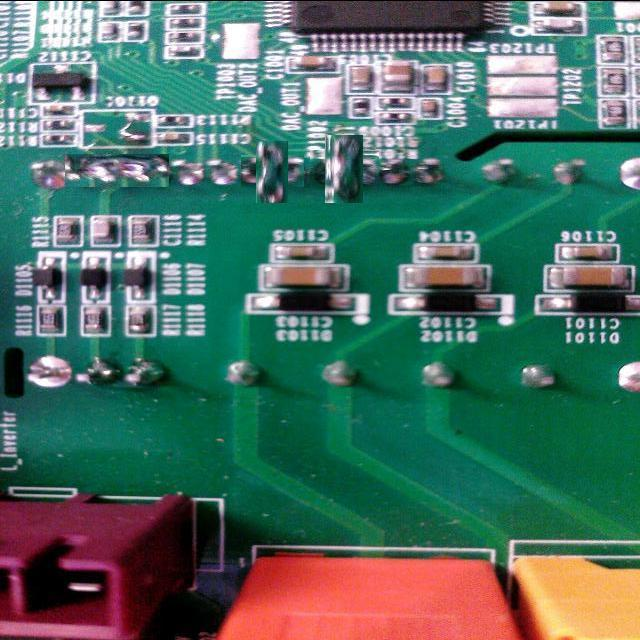Short_circuit: (65, 154, 169, 187), (318, 142, 371, 196), (249, 148, 296, 195)
